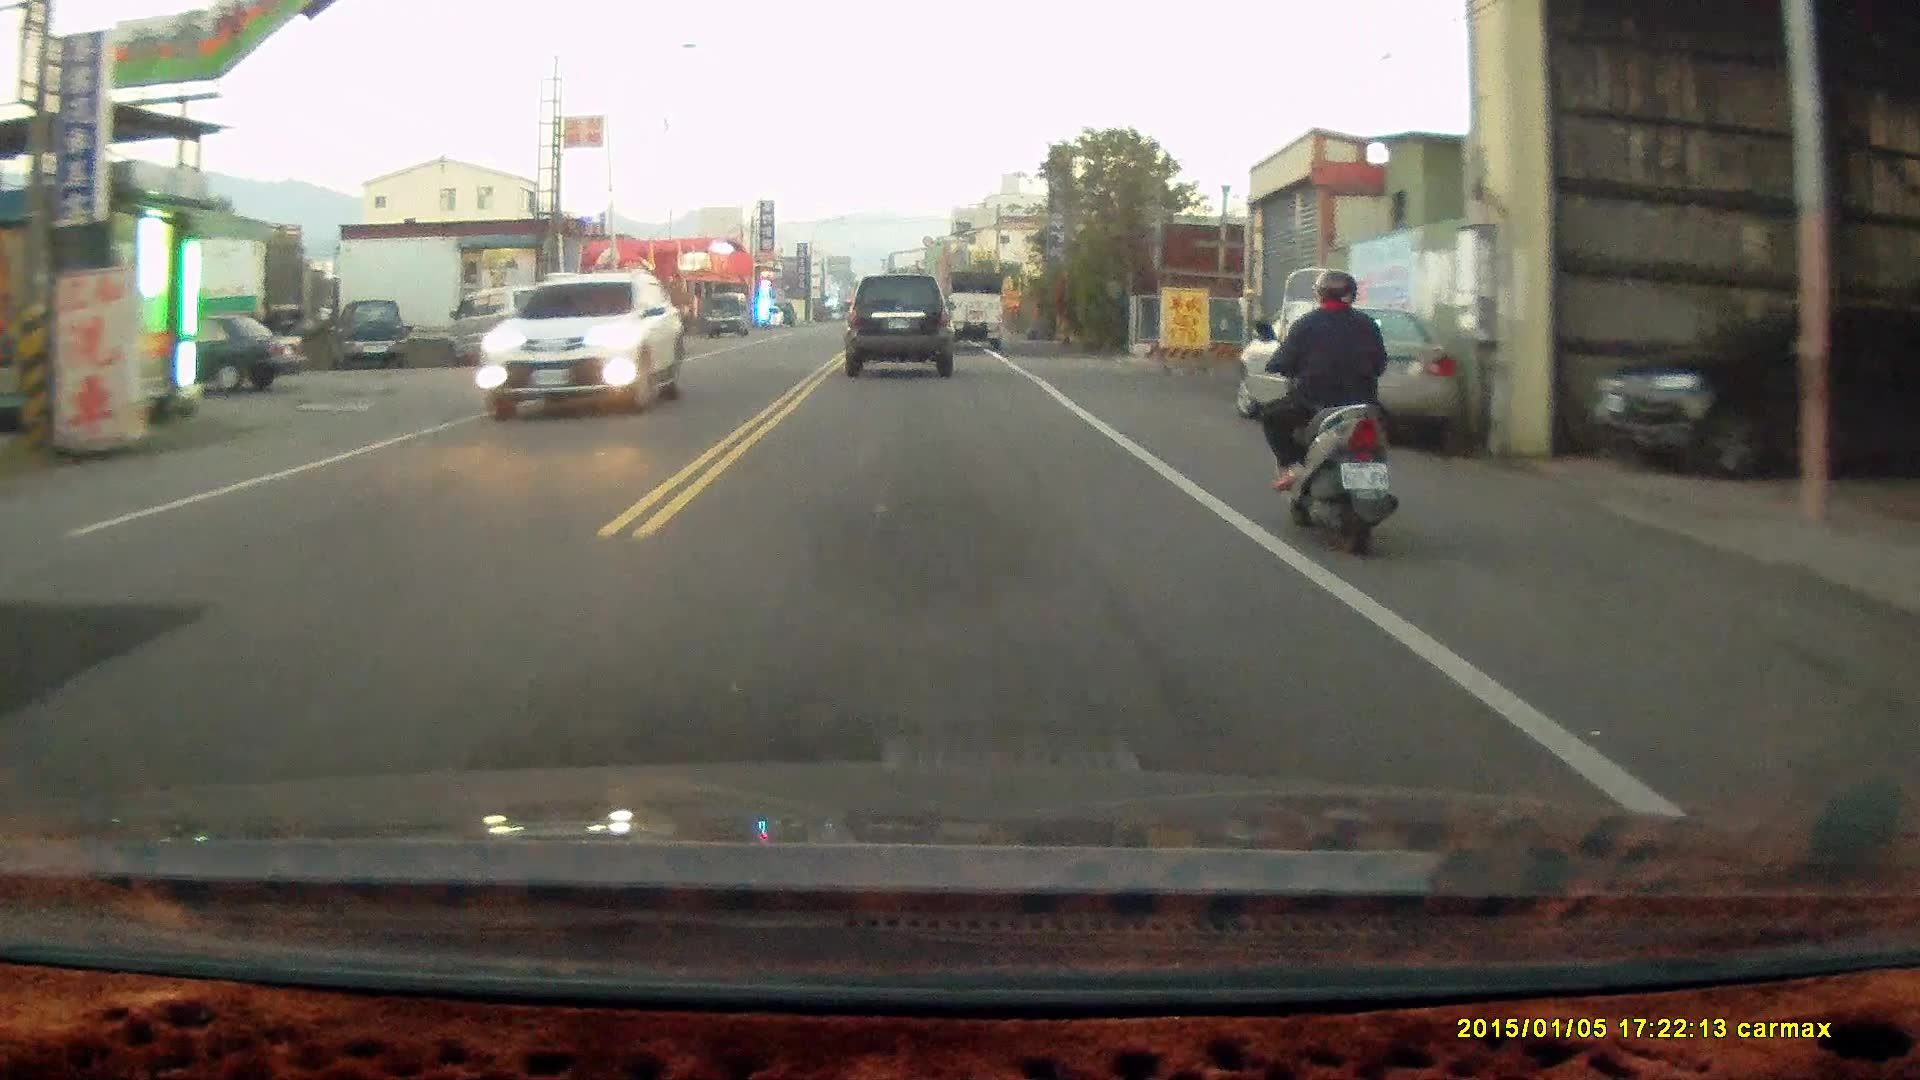rider: (1255, 265, 1401, 556)
vehicle: (1593, 293, 1912, 477), (1232, 303, 1474, 448), (471, 265, 688, 413), (113, 312, 308, 395), (846, 270, 957, 377), (450, 281, 568, 366), (942, 270, 1008, 349), (340, 296, 408, 365)
